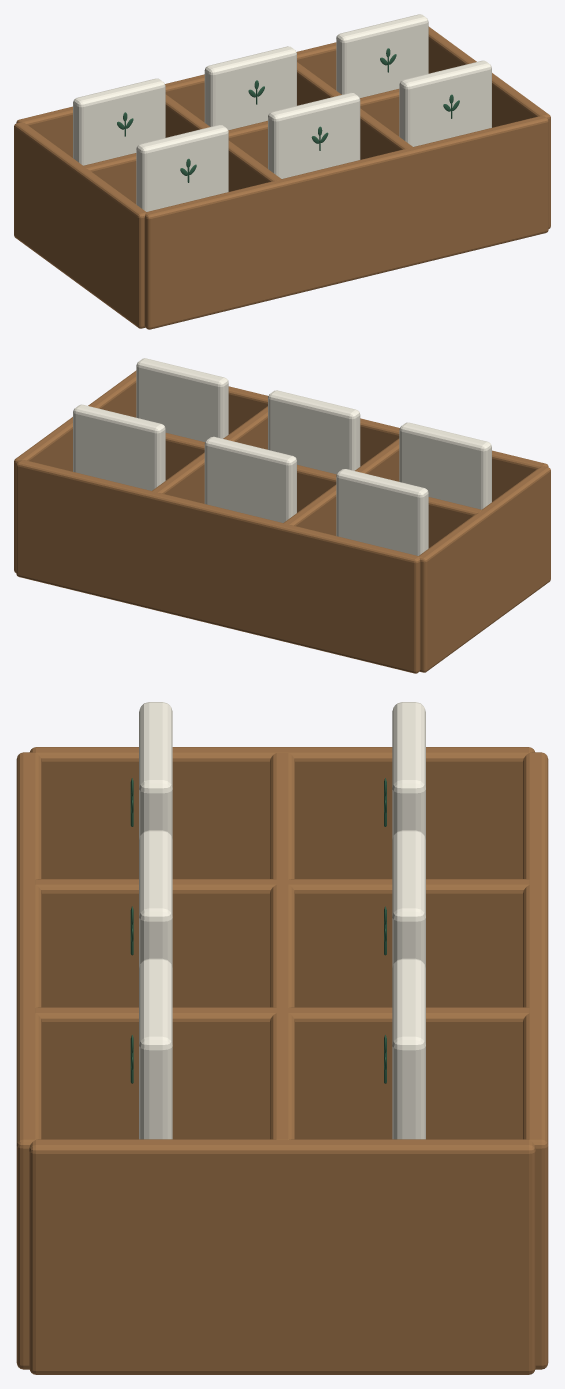
Rendered from seed_organizer.glb.
The picture shows the model from 3 angles, top to bottom: view 1: azimuth 30°, elevation 25°; view 2: azimuth 150°, elevation 25°; view 3: azimuth 270°, elevation 25°; orthographic projection. The views are drawn at different scales.
Visible parts, largest first — view 1: Divider.006, Divider, Seed_packet.003, Seed_packet.004, Seed_packet.005, Seed_packet, Seed_packet.002, Seed_packet.001, Divider.004, Divider.005, Divider.003, Divider.001 (+1 smaller); view 2: Divider.004, Divider, Seed_packet, Seed_packet.001, Seed_packet.002, Seed_packet.003, Seed_packet.005, Seed_packet.004, Divider.006, Divider.005, Divider.003, Divider.001 (+1 smaller); view 3: Divider.003, Divider.002, Divider, Divider.001, Divider.004, Divider.006, Divider.005, Seed_packet.002, Seed_packet.005, Seed_packet, Seed_packet.001, Seed_packet.003 (+1 smaller).
Boxes of the visible parts, box(x1,y1,x2,y2) form: Divider.006: box(144, 116, 548, 329); Divider: box(14, 122, 145, 328); Seed_packet.003: box(136, 125, 228, 211); Seed_packet.004: box(268, 92, 360, 178); Seed_packet.005: box(399, 60, 491, 146); Seed_packet: box(73, 78, 165, 165); Seed_packet.002: box(336, 14, 428, 97); Seed_packet.001: box(204, 46, 296, 130); Divider.004: box(16, 42, 336, 157); Divider.005: box(83, 89, 399, 204); Divider.003: box(428, 26, 550, 228); Divider.001: box(165, 94, 281, 191); Divider.004: box(16, 460, 420, 673); Divider: box(419, 466, 550, 672); Seed_packet: box(336, 469, 428, 555); Seed_packet.001: box(204, 436, 296, 522); Seed_packet.002: box(73, 404, 165, 490); Seed_packet.003: box(399, 422, 491, 509); Seed_packet.005: box(136, 358, 228, 441); Seed_packet.004: box(268, 390, 360, 474); Divider.006: box(228, 386, 548, 501); Divider.005: box(165, 433, 481, 548); Divider.003: box(14, 370, 136, 572); Divider.001: box(283, 438, 399, 535); Divider.003: box(29, 1139, 535, 1374); Divider.002: box(35, 1007, 529, 1139); Divider: box(30, 747, 534, 878); Divider.001: box(35, 879, 529, 1007); Divider.004: box(523, 752, 548, 1369); Divider.006: box(16, 752, 41, 1369); Divider.005: box(270, 753, 294, 1139); Seed_packet.002: box(392, 958, 425, 1139); Seed_packet.005: box(139, 958, 172, 1139); Seed_packet: box(392, 702, 425, 839); Seed_packet.001: box(392, 830, 425, 967); Seed_packet.003: box(139, 702, 172, 839).
Bounding box in the file's own units: 0.565 × 0.2 × 0.315.
